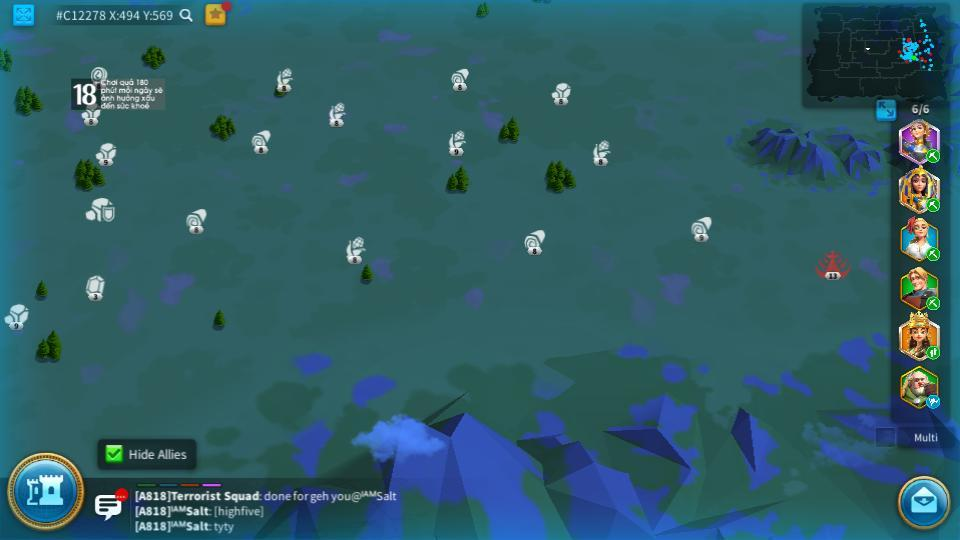gem-z-out: (83, 275, 107, 299), (90, 67, 109, 79)
march_idle: (925, 394, 942, 408)
march_marching: (925, 197, 941, 212), (925, 150, 942, 162), (925, 347, 941, 359), (925, 297, 942, 308)
